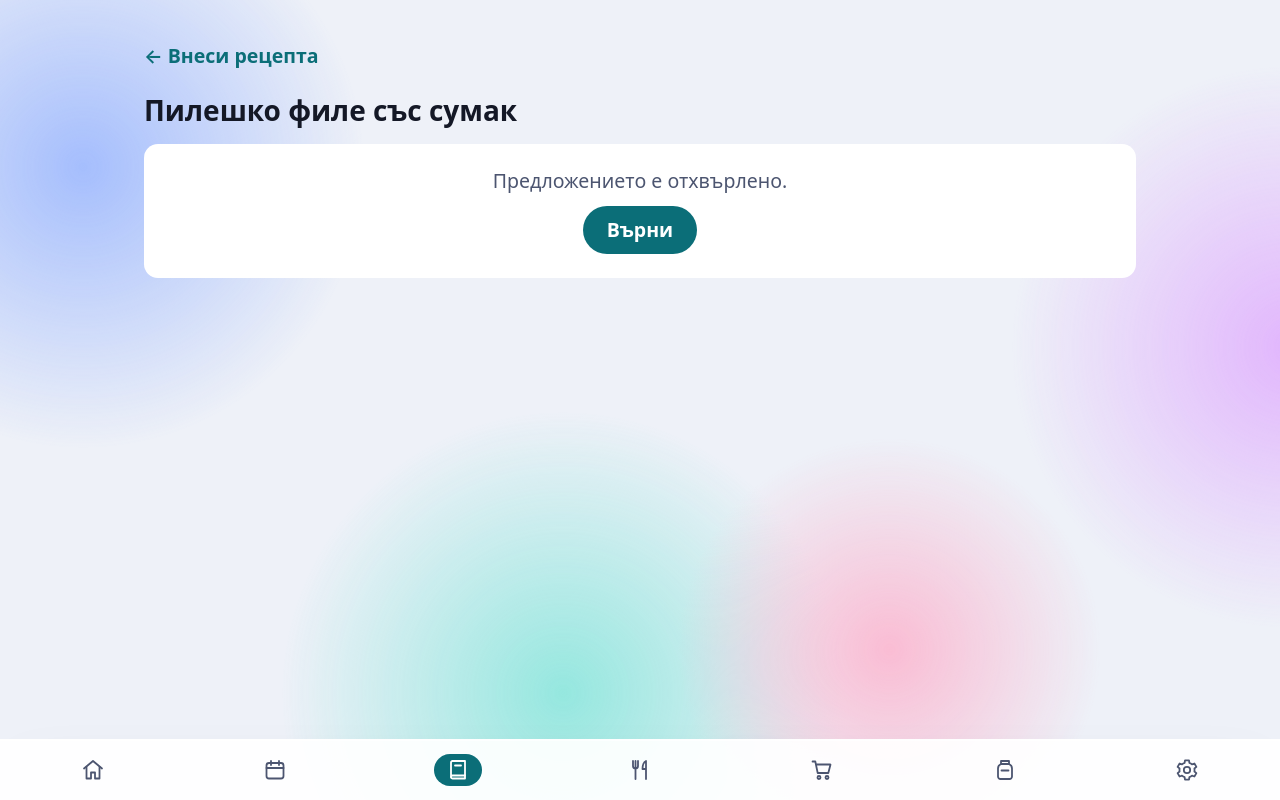
Test: ImportScreen › отхвърленото внасяне казва, че е отхвърлено, и има „Върни“ към прегледа
Expected: the text "Предложението е отхвърлено." is shown, [493,168,787,194]
Click the button "Върни".
click(640, 230)  # box [583,206,697,254]
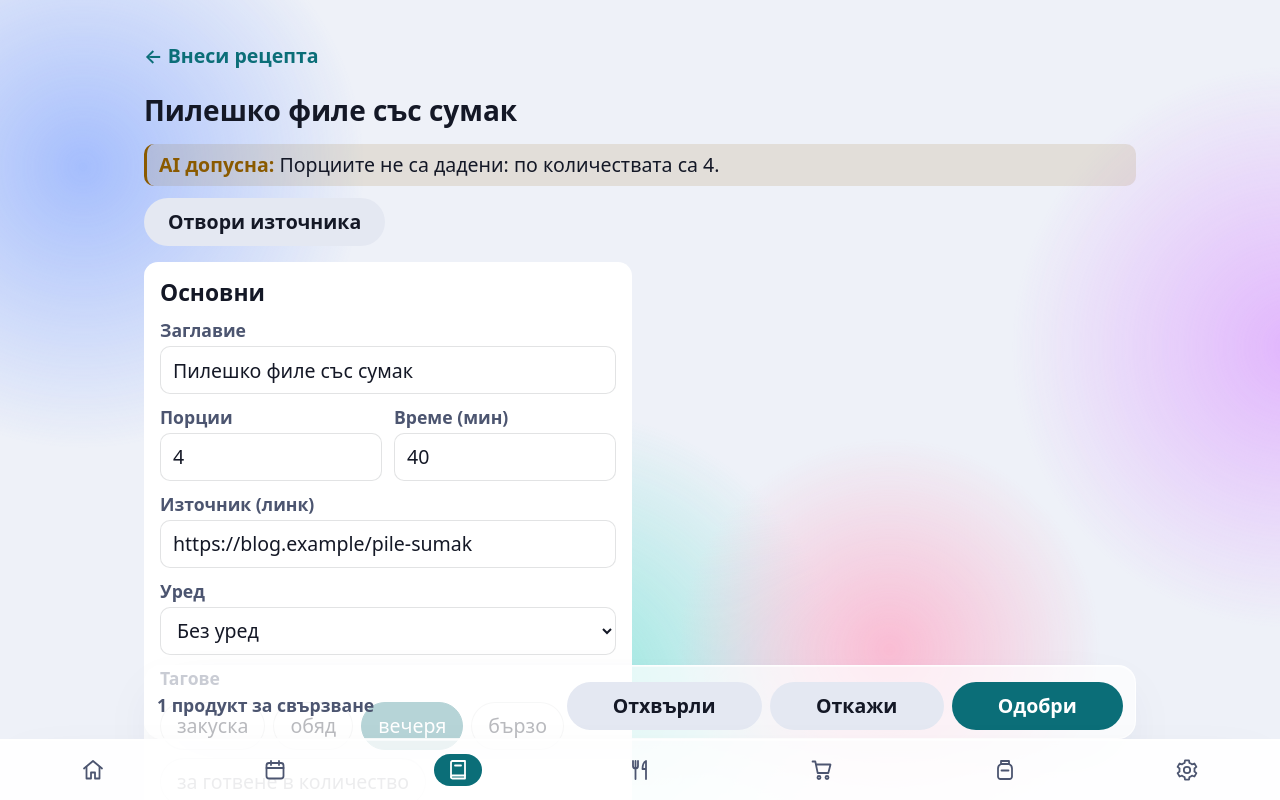
Expected: the field labelled "Заглавие" holds "Пилешко филе със сумак", [160,346,616,394]
